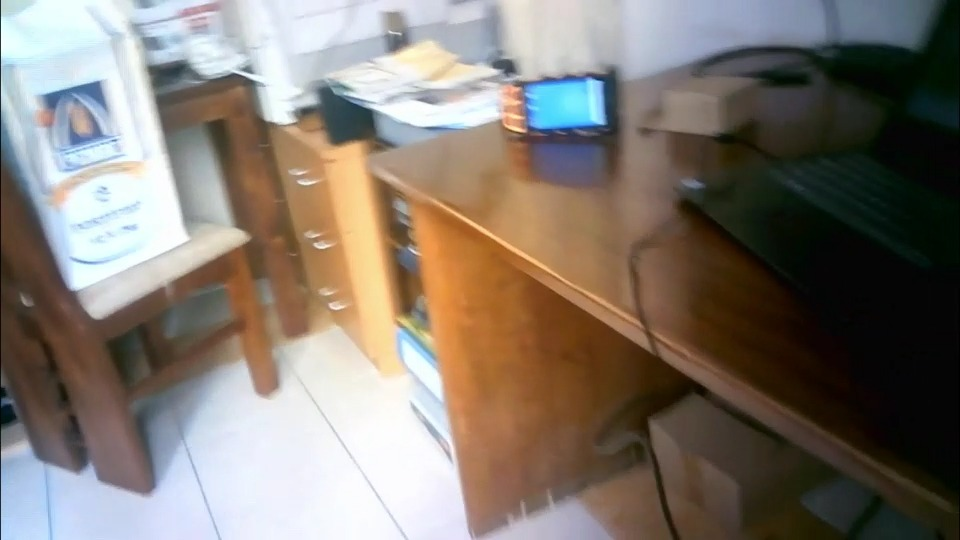wheat_flour_blue_label: (0, 10, 186, 289)
